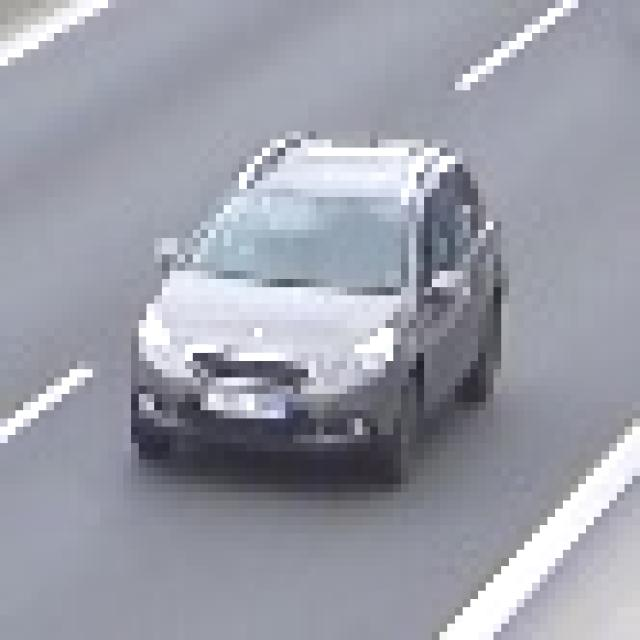SUV: (146, 157, 478, 438)
